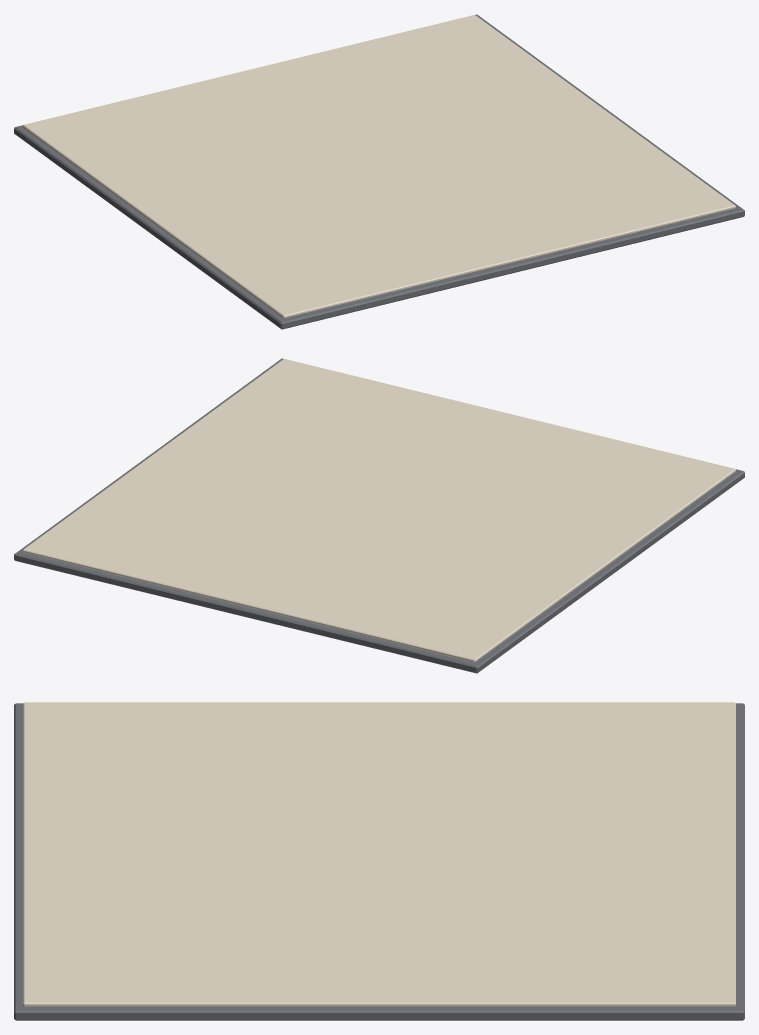
File: nursery-and-primary-classroom-classroom-floor-tile-b6bb7c53__35024.glb
3 views of the same model, one above another, from view 1: azimuth 30°, elevation 25°; view 2: azimuth 150°, elevation 25°; view 3: azimuth 270°, elevation 25° (orthographic). The views are drawn at different scales.
Parts seen in each view (by area): view 1: classroom-floor-tile; view 2: classroom-floor-tile; view 3: classroom-floor-tile.
Boxes of the visible parts, x1,y1,x2,y2 form: classroom-floor-tile: (14, 14, 744, 329); classroom-floor-tile: (14, 358, 744, 673); classroom-floor-tile: (14, 702, 744, 1020).
Size of the model in its own units: 1.2 by 0.026 by 1.2.
